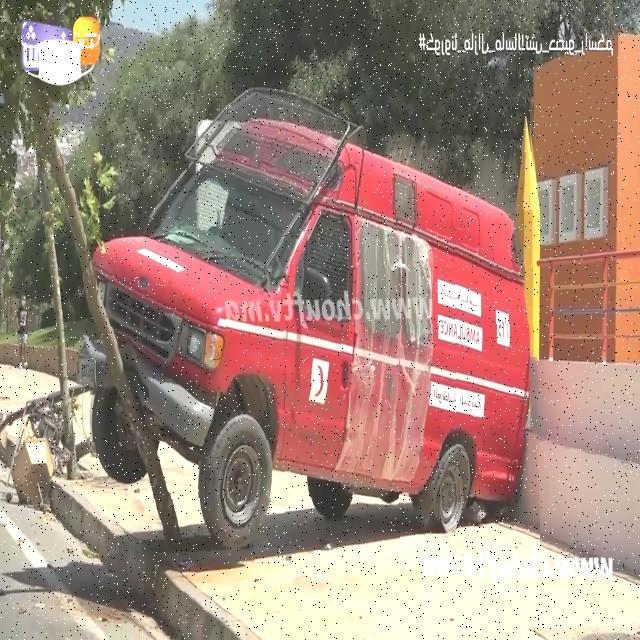ambulance: (86, 99, 538, 552)
